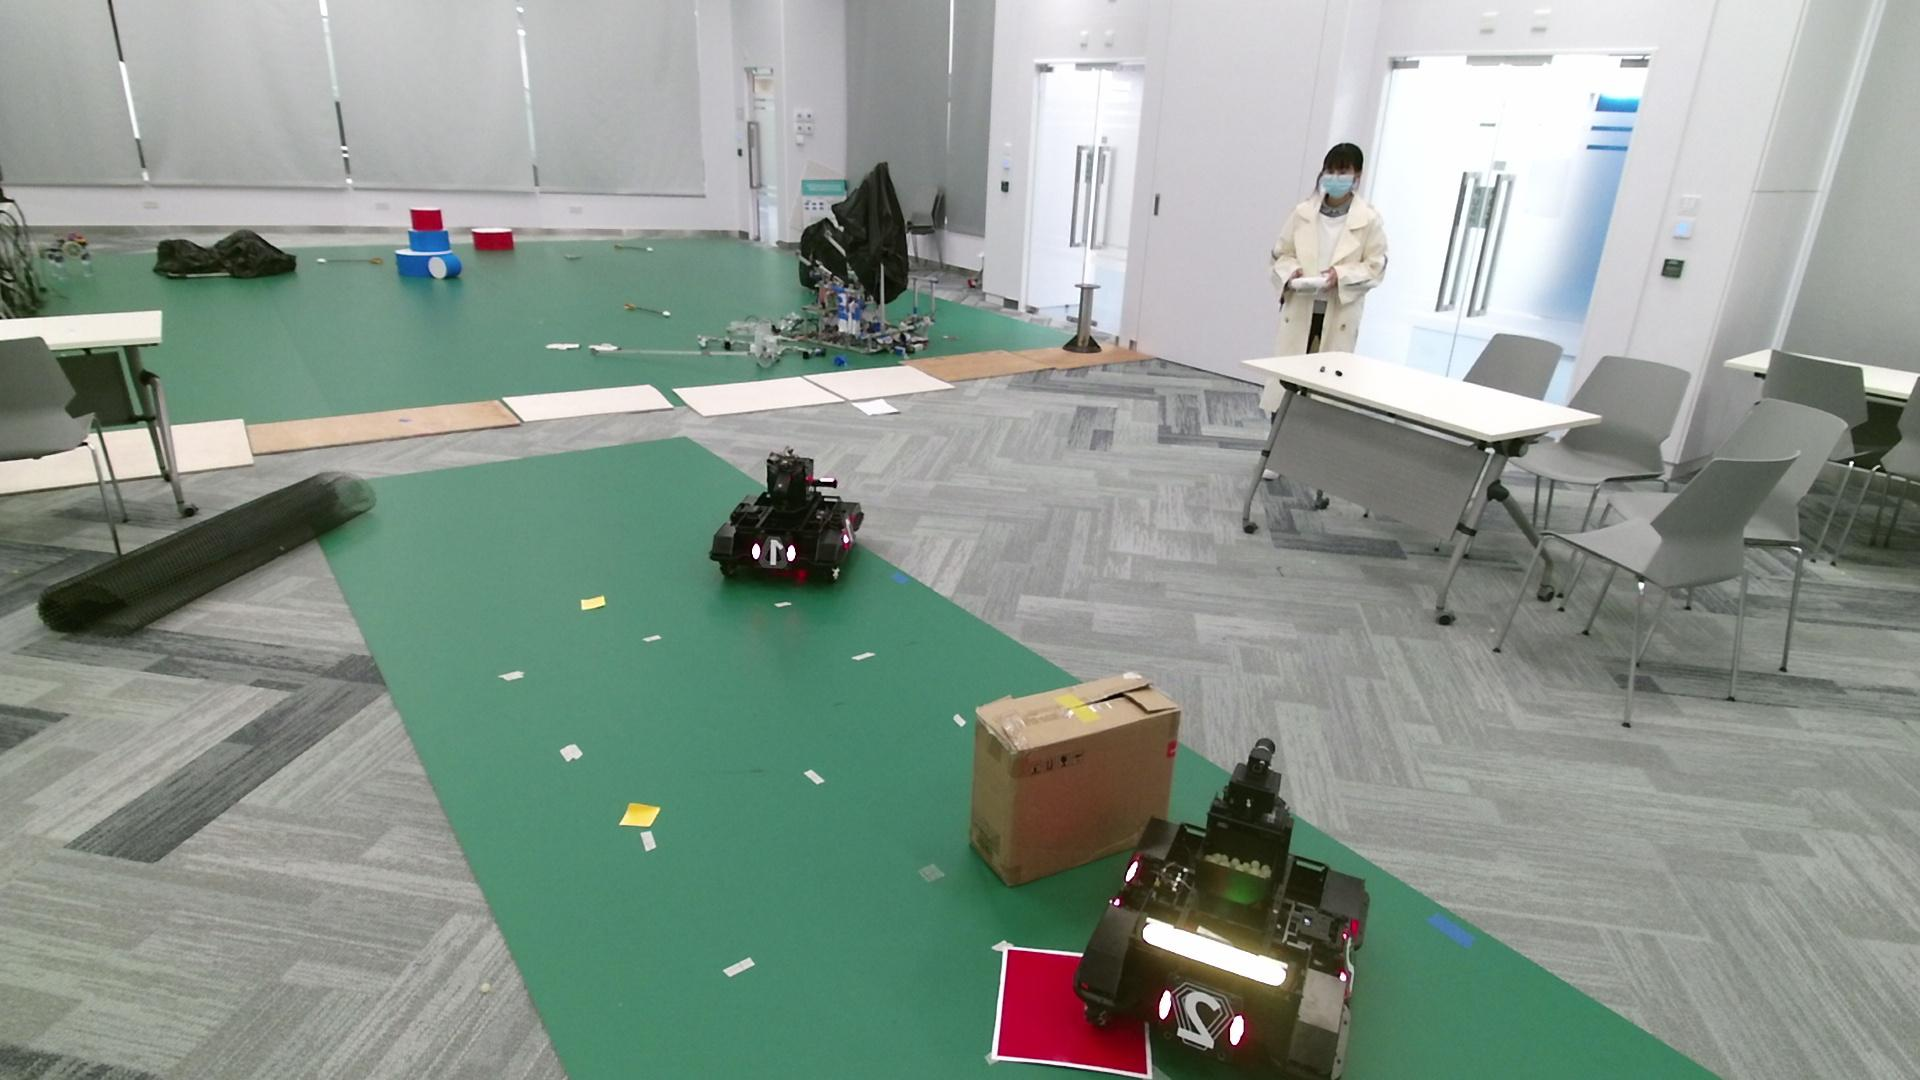robot: (1073, 736, 1371, 1080), (709, 450, 866, 582)
